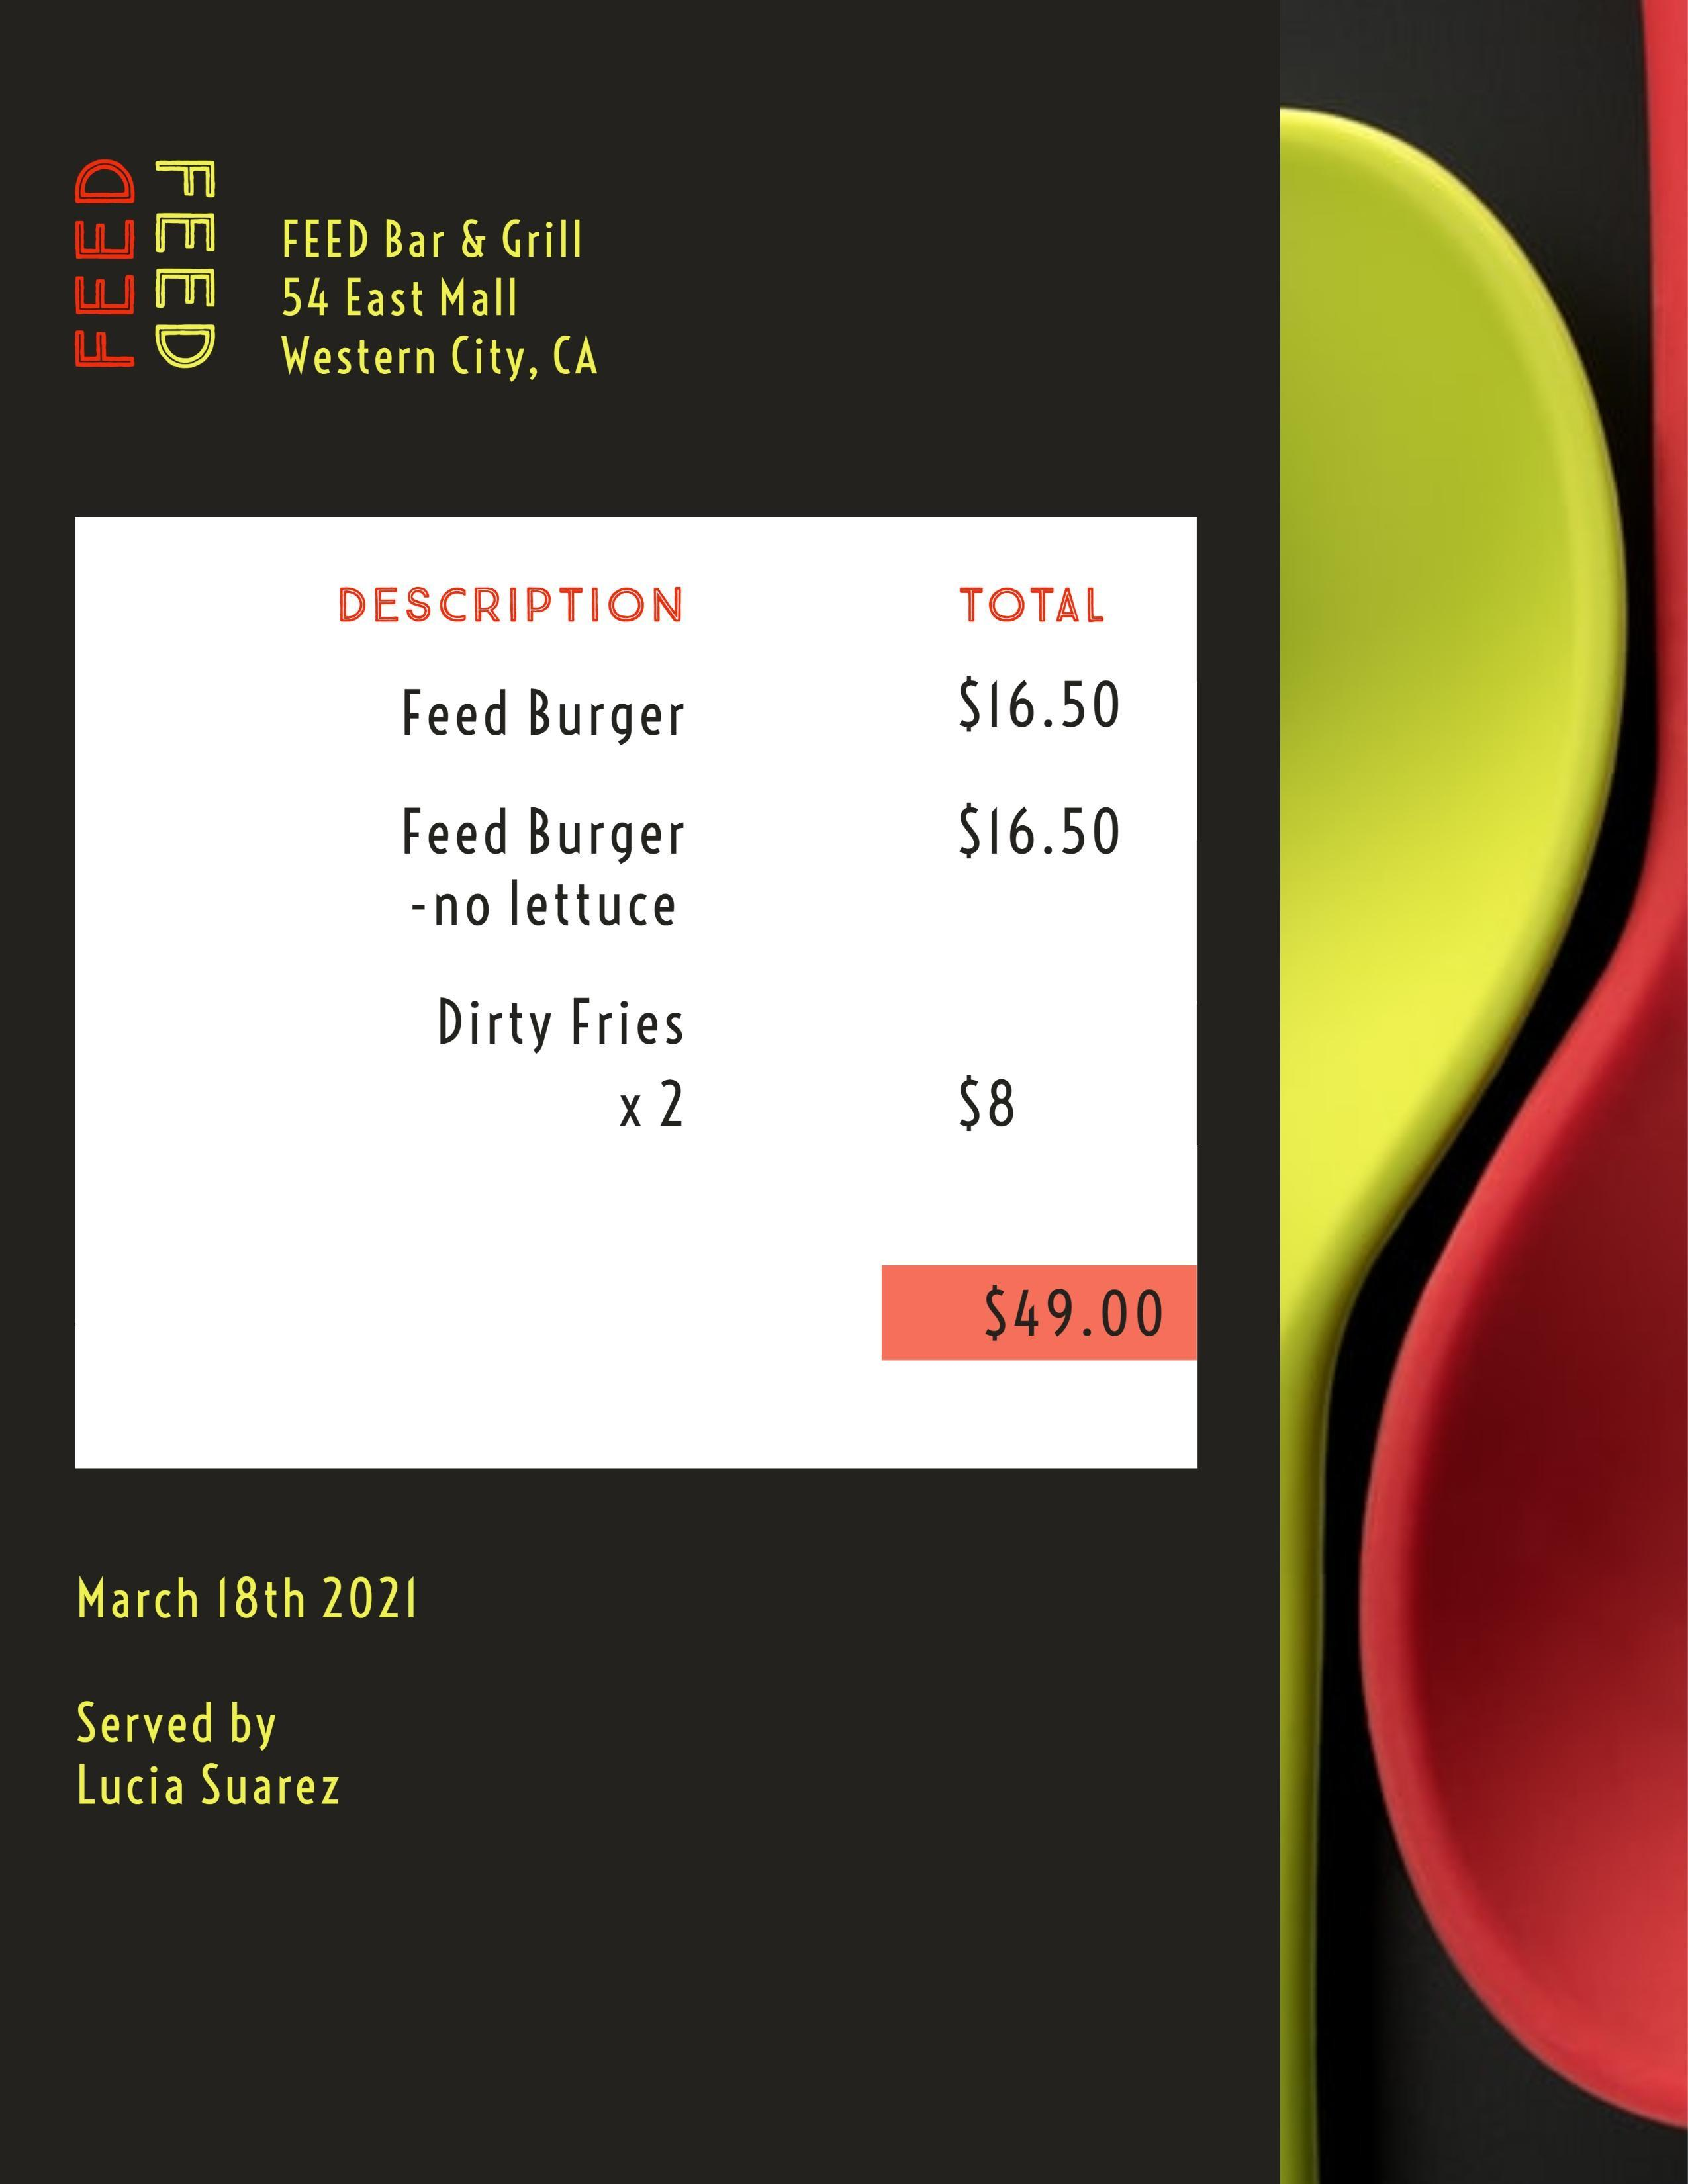ROI: (335, 567, 1160, 1160), (28, 1535, 459, 1855), (240, 187, 647, 402), (893, 1270, 1188, 1353)
